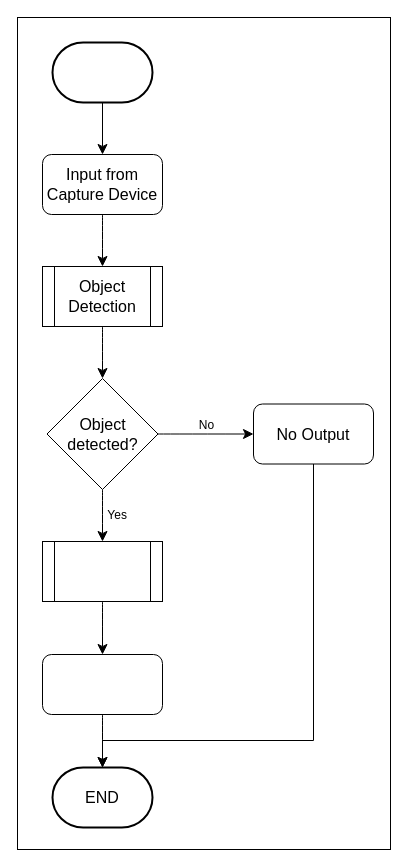
The diagram is 408 pixels wide and 867 high, and some of its shapes have lost their labels. The shapes that lost their labels are listed below. From the top down, each one's box as (x1, y1, x2, y2) in pixels, then its label:
(51, 41, 153, 103): START
(42, 540, 162, 602): Object Labelling
(42, 654, 162, 714): Output Object Detected and Label
